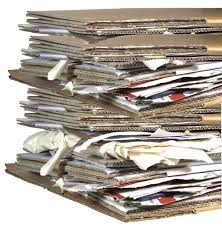paper: (3, 158, 222, 220), (3, 59, 222, 107), (8, 123, 222, 167), (12, 94, 222, 137), (11, 4, 222, 35), (19, 32, 222, 62)
